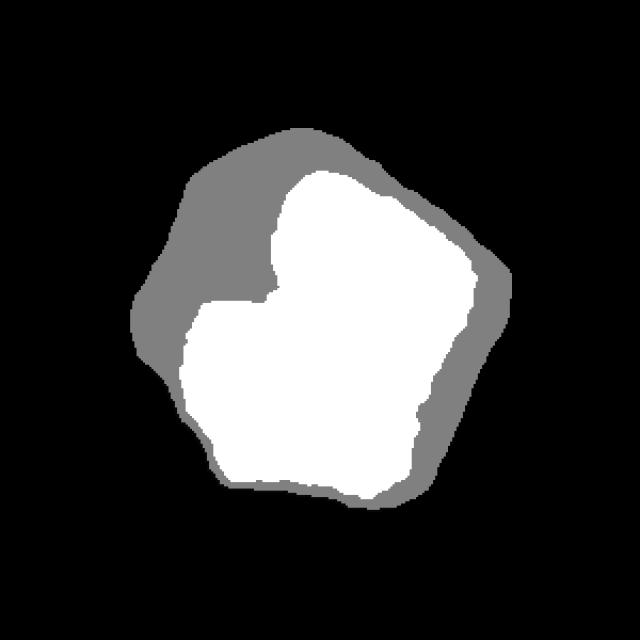WBC: (92, 111, 535, 527)
